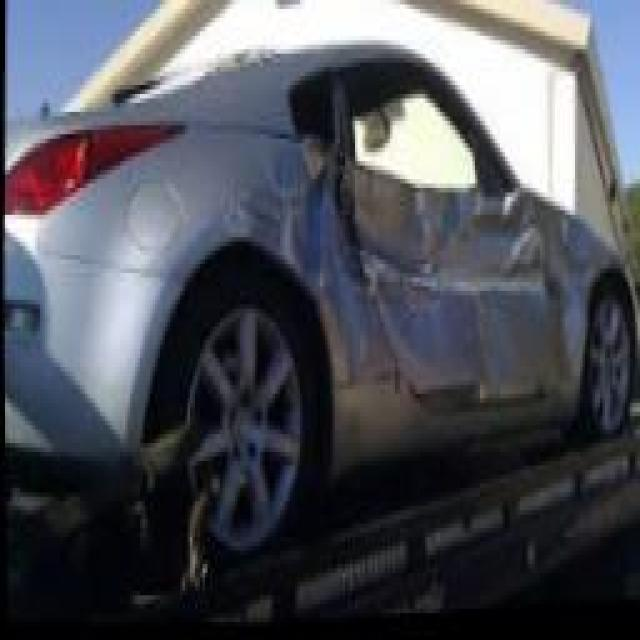Door: (287, 96, 563, 402)
Fender: (186, 129, 399, 397), (536, 203, 630, 421)
